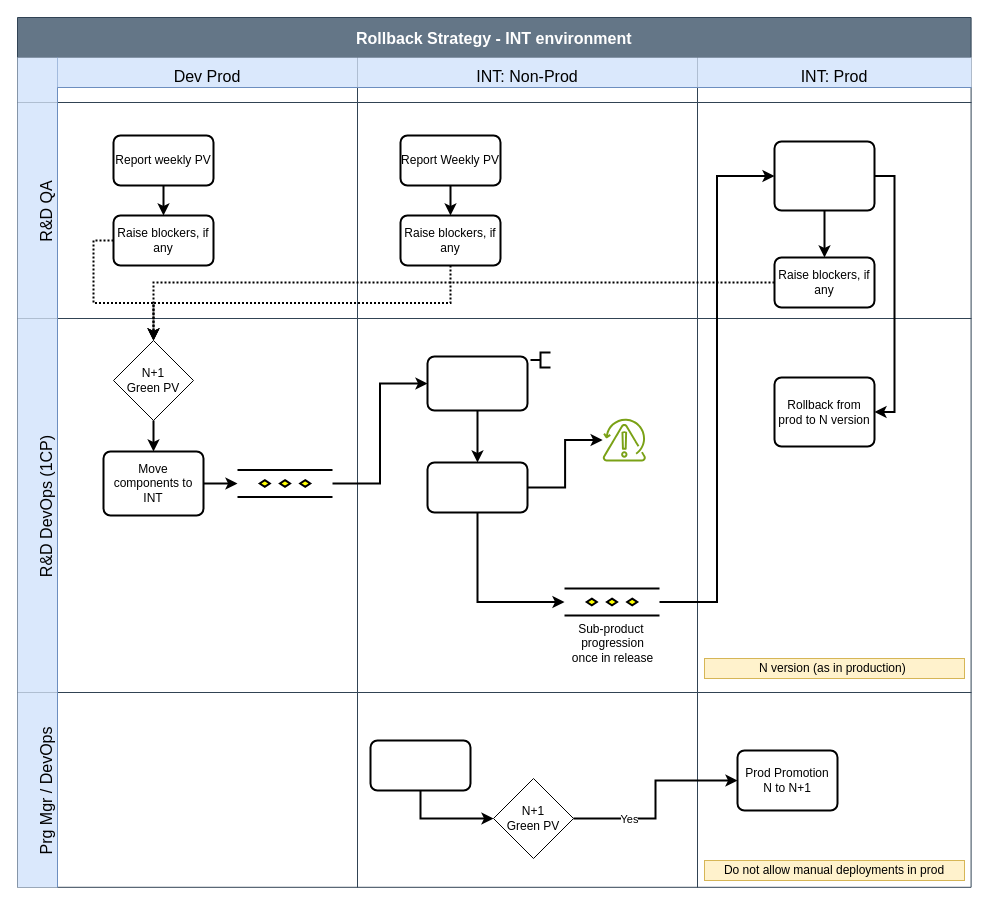
Image size: 990x905. Some labels were removed from this diagram. Each missing label, with the box of its shape:
<component>.V<n+1>: (529, 351, 551, 368)
Daily progression: (236, 468, 333, 498)
Deploy to non-prod using 1CP: (426, 355, 528, 411)
Request from Prog Mgr for promotion: (369, 739, 471, 791)
Revert components / Sub-products with BVT issues: (602, 418, 646, 461)
Run BVT: (426, 461, 528, 513)
Test sub-product backward compatibility: (773, 140, 875, 211)
